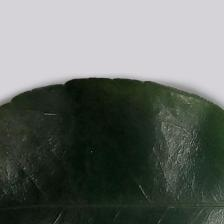healthy: (0, 84, 224, 223)
